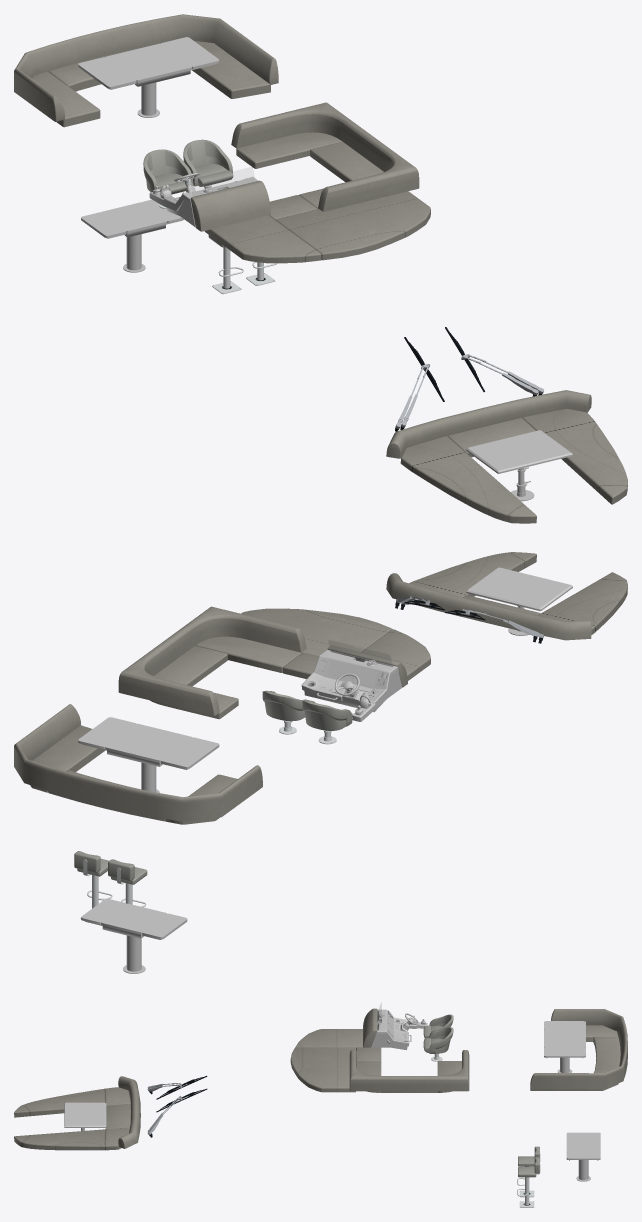
File: Yacht_Outside_Furniture.fbx
The picture shows the model from 3 angles, top to bottom: view 1: azimuth 30°, elevation 25°; view 2: azimuth 150°, elevation 25°; view 3: azimuth 270°, elevation 25°; orthographic projection. The views are drawn at different scales.
Parts seen in each view (by area): view 1: Sofa_01, Table_01, Cockpit_Chair001, Table_04, Table_02, Cockpit_01, Chair, Cockpit_01_Glass; view 2: Sofa_01, Table_01, Cockpit_01, Table_04, Table_02, Cockpit_Chair001, Chair, Cockpit_01_Glass; view 3: Sofa_01, Table_01, Cockpit_01, Table_04, Table_02, Cockpit_Chair001, Chair.
Boxes of the visible parts, x1,y1,x2,y2 form: Sofa_01: [14, 14, 627, 523]; Table_01: [78, 37, 219, 117]; Cockpit_Chair001: [143, 139, 233, 208]; Table_04: [81, 199, 184, 272]; Table_02: [466, 430, 572, 473]; Cockpit_01: [149, 173, 258, 227]; Chair: [208, 235, 277, 294]; Cockpit_01_Glass: [191, 167, 254, 195]; Sofa_01: [14, 552, 627, 824]; Table_01: [78, 717, 219, 792]; Cockpit_01: [301, 649, 402, 721]; Table_04: [81, 898, 187, 973]; Table_02: [466, 567, 572, 611]; Cockpit_Chair001: [262, 690, 352, 744]; Chair: [74, 851, 147, 918]; Cockpit_01_Glass: [329, 640, 392, 666]; Sofa_01: [14, 1008, 627, 1150]; Table_01: [544, 1021, 585, 1072]; Cockpit_01: [371, 1009, 427, 1050]; Table_04: [566, 1132, 600, 1181]; Table_02: [64, 1102, 106, 1127]; Cockpit_Chair001: [423, 1014, 453, 1061]; Chair: [517, 1146, 540, 1207].
Size of the model in its own units: 322 by 329 by 1259.
